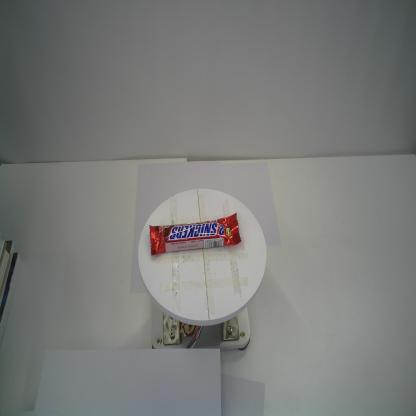Chocolate: (148, 212, 242, 256)
